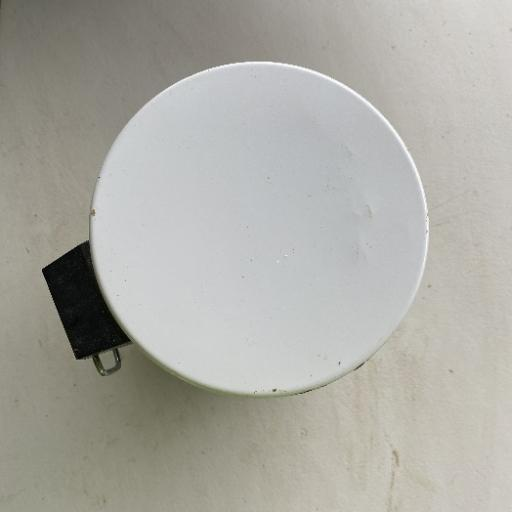Metal: (40, 58, 433, 398)
